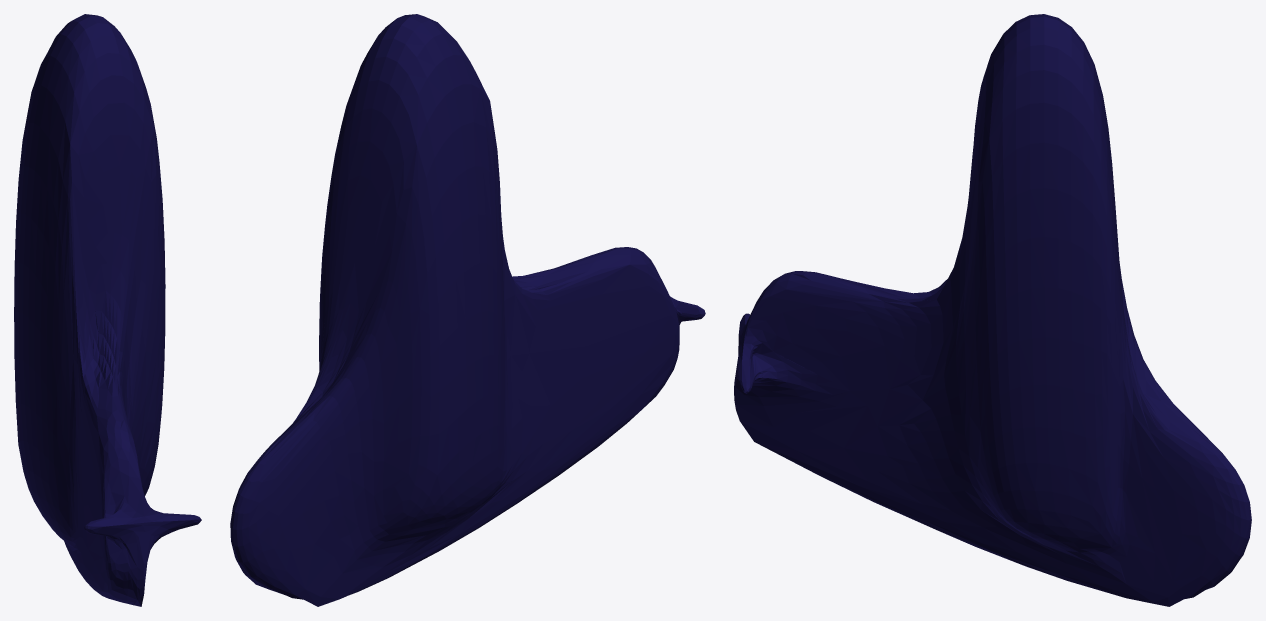
3 views of the same model, side by side, from view 1: azimuth 30°, elevation 25°; view 2: azimuth 150°, elevation 25°; view 3: azimuth 270°, elevation 25° (orthographic). The views are drawn at different scales.
Parts seen in each view (by area): view 1: 975_Cube.3937; view 2: 975_Cube.3937; view 3: 975_Cube.3937.
Boxes of the visible parts, left/top/right/bottom form: 975_Cube.3937: left=14, top=14, right=201, bottom=606; 975_Cube.3937: left=230, top=14, right=705, bottom=606; 975_Cube.3937: left=734, top=14, right=1251, bottom=606.
Size of the model in its own units: 5.65 by 12.79 by 10.65.
